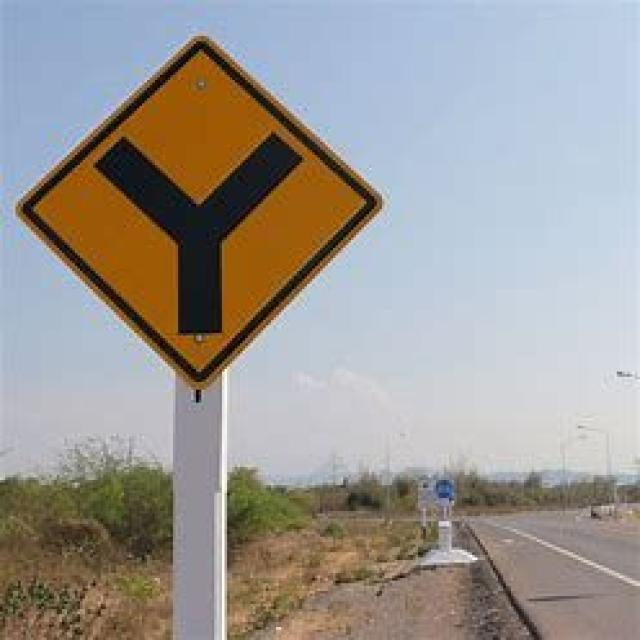y intersection: (16, 33, 396, 388)
